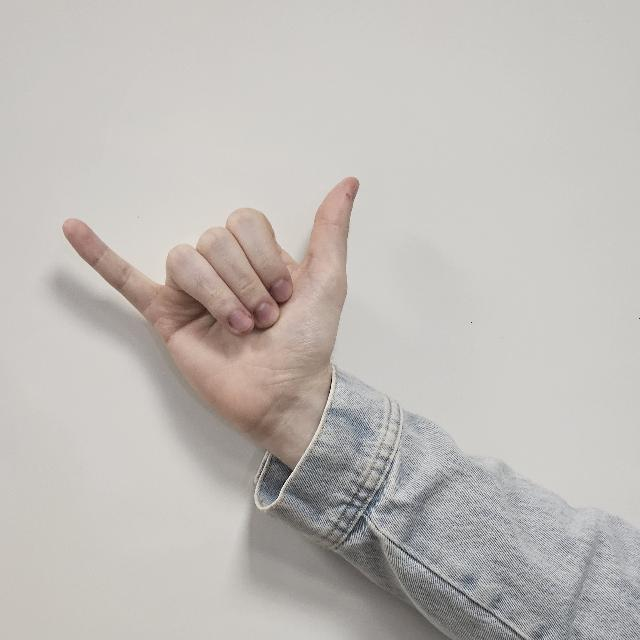Direita: (59, 159, 371, 467)
